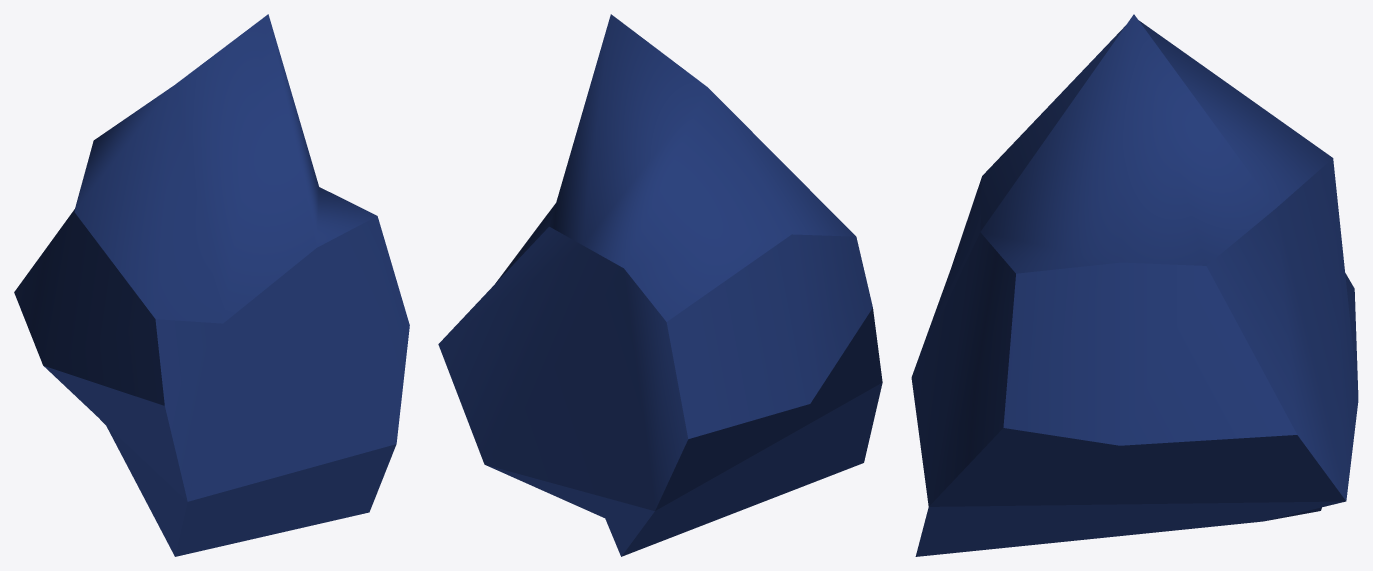
File: Escombro_Piedra_Pieza2_FBX.fbx
The picture shows the model from 3 angles, left to right: view 1: azimuth 30°, elevation 25°; view 2: azimuth 150°, elevation 25°; view 3: azimuth 270°, elevation 25°; orthographic projection. The views are drawn at different scales.
Parts seen in each view (by area): view 1: Escombro_Piedra_2; view 2: Escombro_Piedra_2; view 3: Escombro_Piedra_2.
Part boxes in pixels (x1,y1,x2,y2): Escombro_Piedra_2: (14, 14, 409, 556); Escombro_Piedra_2: (438, 14, 882, 556); Escombro_Piedra_2: (911, 14, 1358, 556).
Bounding box in the file's own units: 0.5815 × 0.7596 × 0.561.
